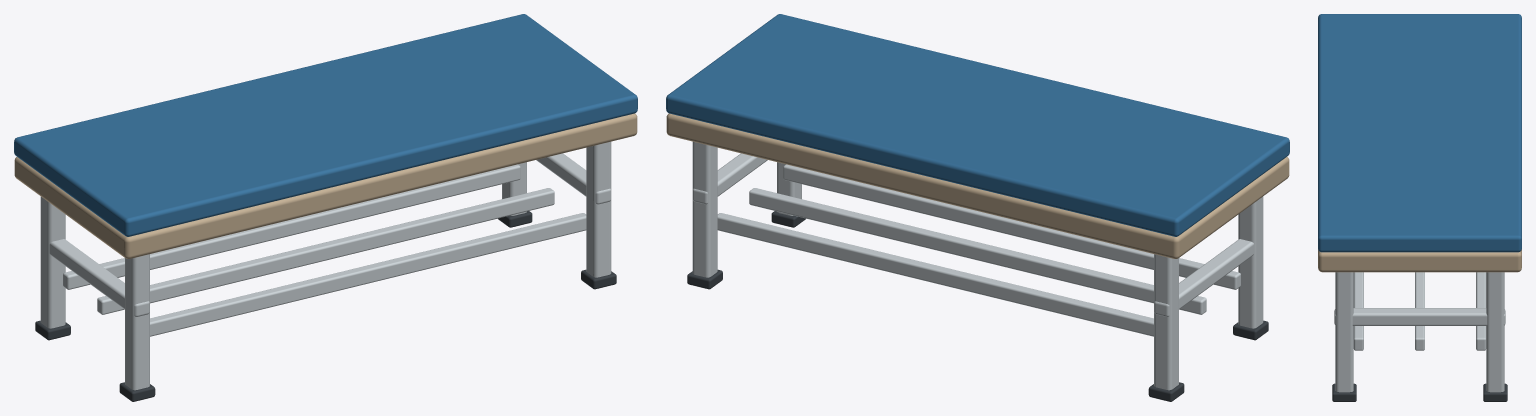
Rendered from fencing-club-and-tournament-piste-shoe-bench-22abe4b7__31246.glb.
3 renders of one model, left to right at view 1: azimuth 30°, elevation 25°; view 2: azimuth 150°, elevation 25°; view 3: azimuth 270°, elevation 25°, orthographic. The views are drawn at different scales.
Visible parts, largest first — view 1: shoe-bench; view 2: shoe-bench; view 3: shoe-bench.
Part boxes in pixels (<box>): shoe-bench: <box>14,14,637,401</box>; shoe-bench: <box>666,14,1289,401</box>; shoe-bench: <box>1318,14,1521,401</box>.
Bounding box in the file's own units: 1.3 × 0.4651 × 0.4999.
